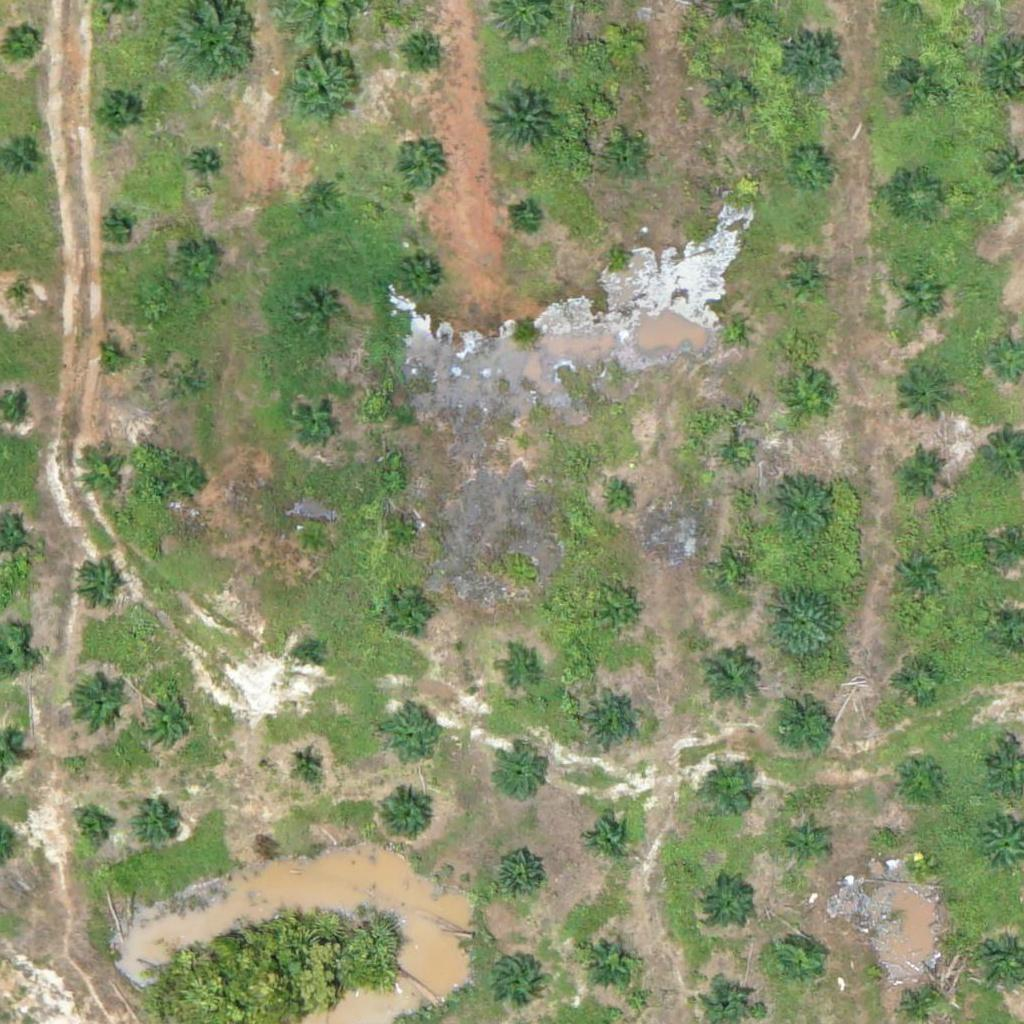Kelapa_Sawit: (278, 46, 366, 134), (763, 470, 838, 546), (767, 688, 842, 764), (767, 584, 842, 660), (484, 82, 559, 158), (696, 643, 759, 706), (581, 689, 644, 752), (897, 363, 960, 426), (784, 32, 847, 95), (135, 690, 198, 753), (375, 786, 437, 849), (579, 928, 641, 991), (379, 704, 441, 767), (69, 672, 131, 735), (165, 455, 215, 506), (495, 748, 545, 799), (492, 849, 542, 900), (583, 813, 633, 864), (385, 585, 435, 636), (891, 171, 941, 222), (889, 53, 939, 104), (710, 69, 760, 120), (598, 15, 648, 66), (786, 142, 836, 193), (896, 274, 946, 325), (78, 449, 128, 500), (707, 768, 757, 818), (703, 878, 753, 928), (893, 751, 943, 801), (892, 655, 942, 705), (770, 934, 820, 984), (489, 952, 539, 1002), (785, 376, 835, 426), (604, 136, 654, 186), (894, 541, 944, 591), (899, 446, 949, 496), (781, 259, 831, 309), (73, 562, 123, 612), (133, 798, 183, 848), (393, 142, 443, 192), (396, 256, 446, 306), (293, 395, 343, 445), (293, 288, 343, 338), (300, 174, 350, 224), (173, 244, 223, 294), (92, 84, 142, 134), (785, 824, 823, 862), (498, 654, 536, 692), (71, 808, 109, 846), (603, 597, 640, 635), (290, 745, 327, 783), (294, 521, 332, 558), (168, 366, 206, 403), (7, 21, 44, 59), (387, 515, 424, 553), (3, 145, 40, 182), (513, 205, 538, 231), (725, 561, 750, 587), (718, 316, 743, 341), (723, 444, 748, 469), (606, 487, 631, 512), (606, 243, 631, 268), (906, 852, 931, 877), (296, 642, 321, 667), (104, 215, 129, 240), (97, 345, 122, 370), (9, 284, 34, 309), (3, 396, 28, 421), (414, 41, 439, 66), (512, 432, 537, 457), (192, 151, 216, 176)
